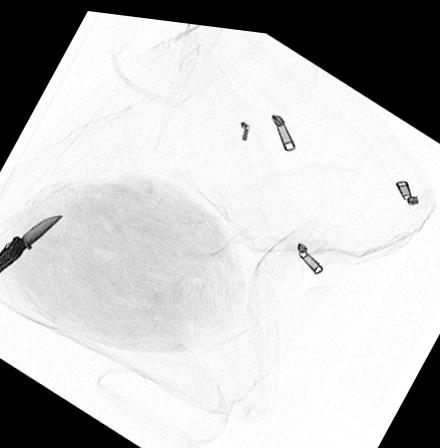Knife: (0, 211, 63, 274)
